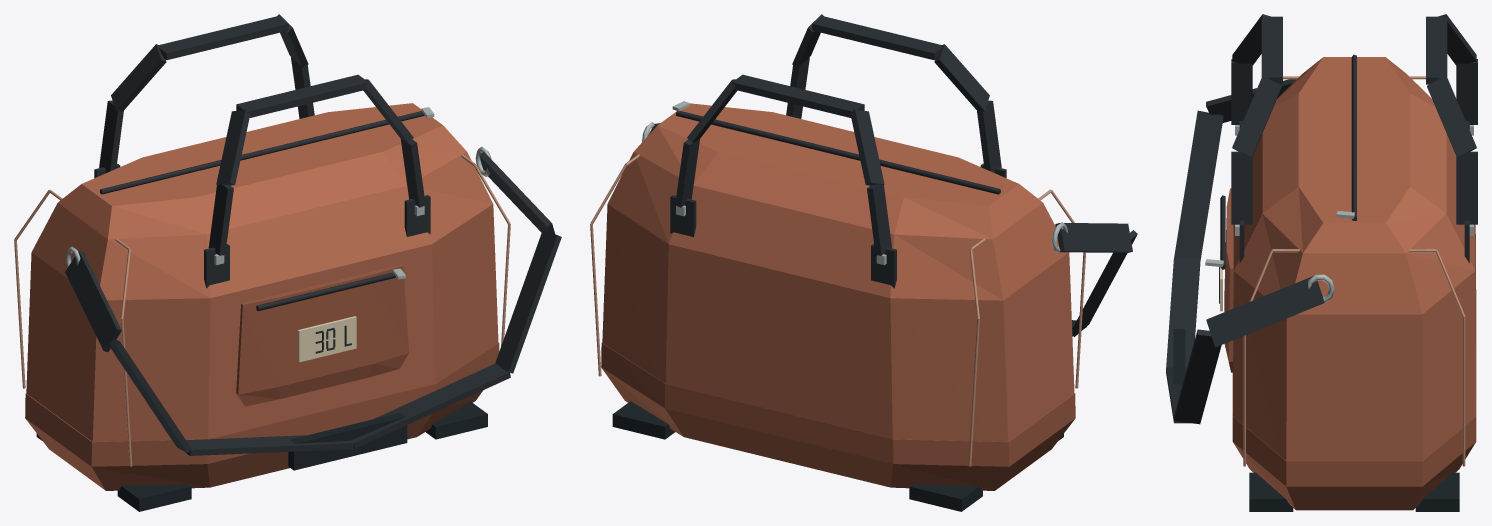
File: travel-bag-30l.glb
3 views of the same model, side by side, from view 1: azimuth 30°, elevation 25°; view 2: azimuth 150°, elevation 25°; view 3: azimuth 270°, elevation 25° (orthographic). The views are drawn at different scales.
Visible parts, largest first — view 1: Дорожная сумка 30 л, Чёрная стропа, Карман для мелочей, Усиленное основание, Мягкие накладки, Швы, Нашивка объёма, Фурнитура; view 2: Дорожная сумка 30 л, Усиленное основание, Чёрная стропа, Мягкие накладки, Швы, Фурнитура; view 3: Дорожная сумка 30 л, Чёрная стропа, Усиленное основание, Мягкие накладки, Швы, Карман для мелочей, Фурнитура.
Boxes of the visible parts, x1=… form: Дорожная сумка 30 л: x1=26, y1=103, x2=498, y2=441; Чёрная стропа: x1=65, y1=14, x2=561, y2=455; Карман для мелочей: x1=236, y1=264, x2=408, y2=406; Усиленное основание: x1=25, y1=342, x2=499, y2=490; Мягкие накладки: x1=36, y1=401, x2=487, y2=511; Швы: x1=14, y1=154, x2=510, y2=466; Нашивка объёма: x1=297, y1=316, x2=356, y2=362; Фурнитура: x1=66, y1=107, x2=491, y2=279; Дорожная сумка 30 л: x1=602, y1=103, x2=1074, y2=441; Усиленное основание: x1=601, y1=342, x2=1075, y2=490; Чёрная стропа: x1=648, y1=14, x2=1137, y2=336; Мягкие накладки: x1=612, y1=401, x2=1063, y2=511; Швы: x1=590, y1=154, x2=1085, y2=466; Фурнитура: x1=642, y1=101, x2=1067, y2=265; Дорожная сумка 30 л: x1=1232, y1=57, x2=1476, y2=460; Чёрная стропа: x1=1166, y1=14, x2=1477, y2=424; Усиленное основание: x1=1232, y1=416, x2=1476, y2=510; Мягкие накладки: x1=1173, y1=329, x2=1459, y2=511; Швы: x1=1243, y1=76, x2=1465, y2=466; Карман для мелочей: x1=1224, y1=188, x2=1233, y2=372; Фурнитура: x1=1205, y1=125, x2=1473, y2=303.
Size of the model in its own units: 0.5 by 0.39 by 0.29.
